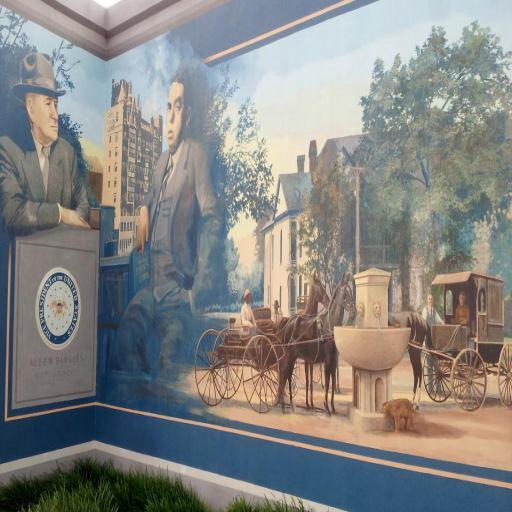horse: (274, 270, 358, 416), (276, 268, 332, 412), (388, 306, 437, 410)
